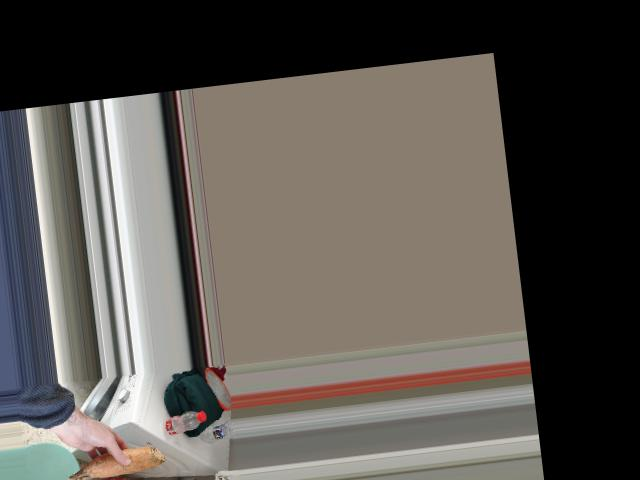sweet_potato: (67, 438, 170, 480)
